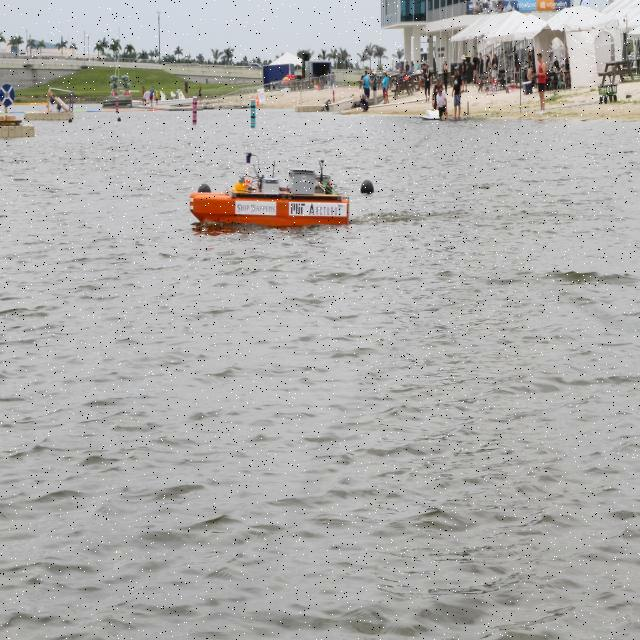buoy: (360, 174, 376, 201)
